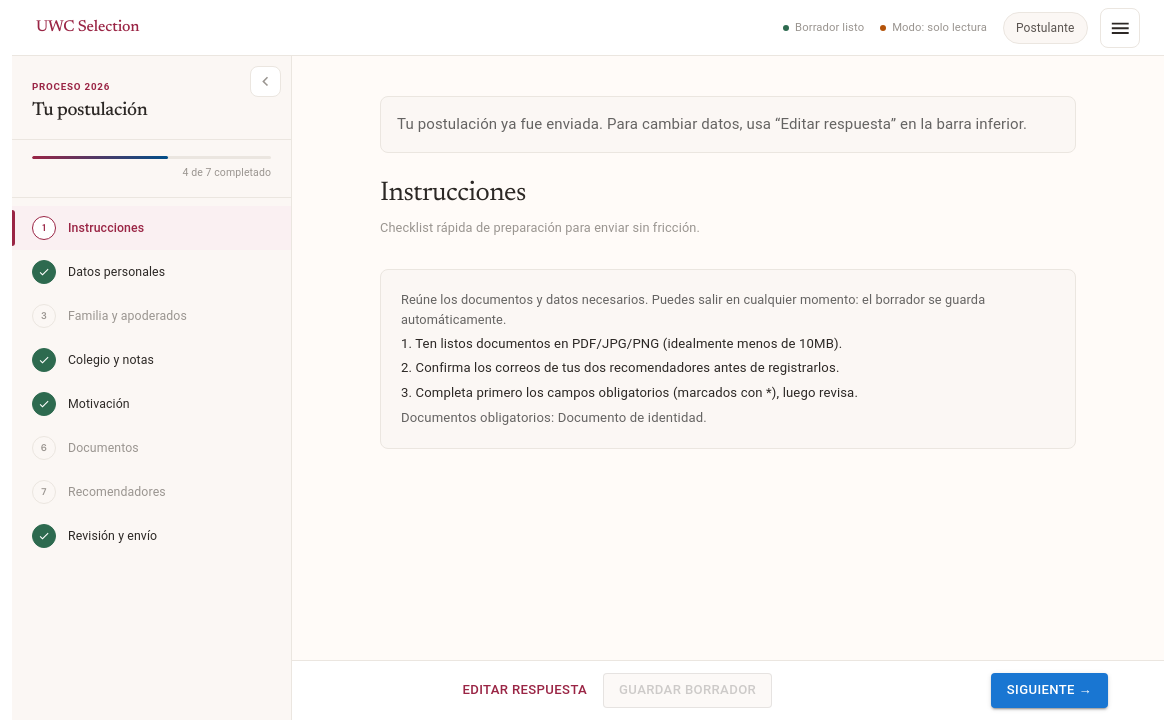
Test case: ApplicantApplicationForm › locks submitted forms until user enables edit mode
Click the button "Datos personales": (152, 272) [12, 250, 291, 294]
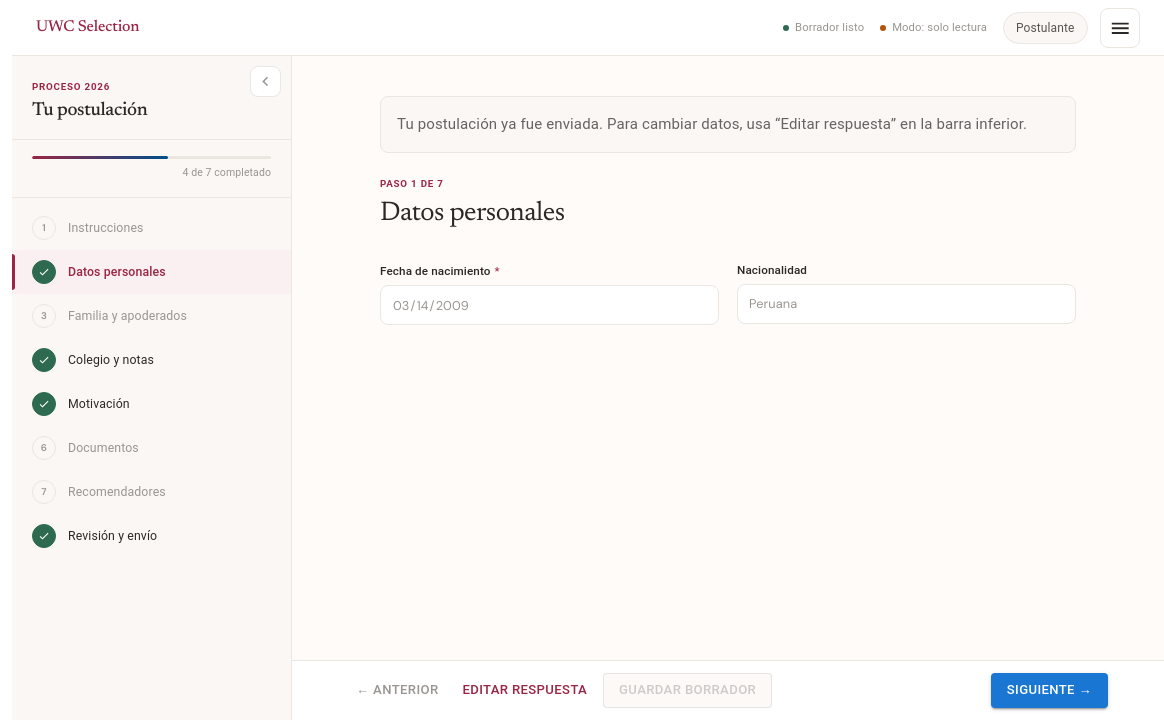
expect the date field named "Fecha de nacimiento" is disabled: met, box [380, 287, 719, 324]
Click the button "Editar respuesta": (525, 690) [454, 673, 595, 708]
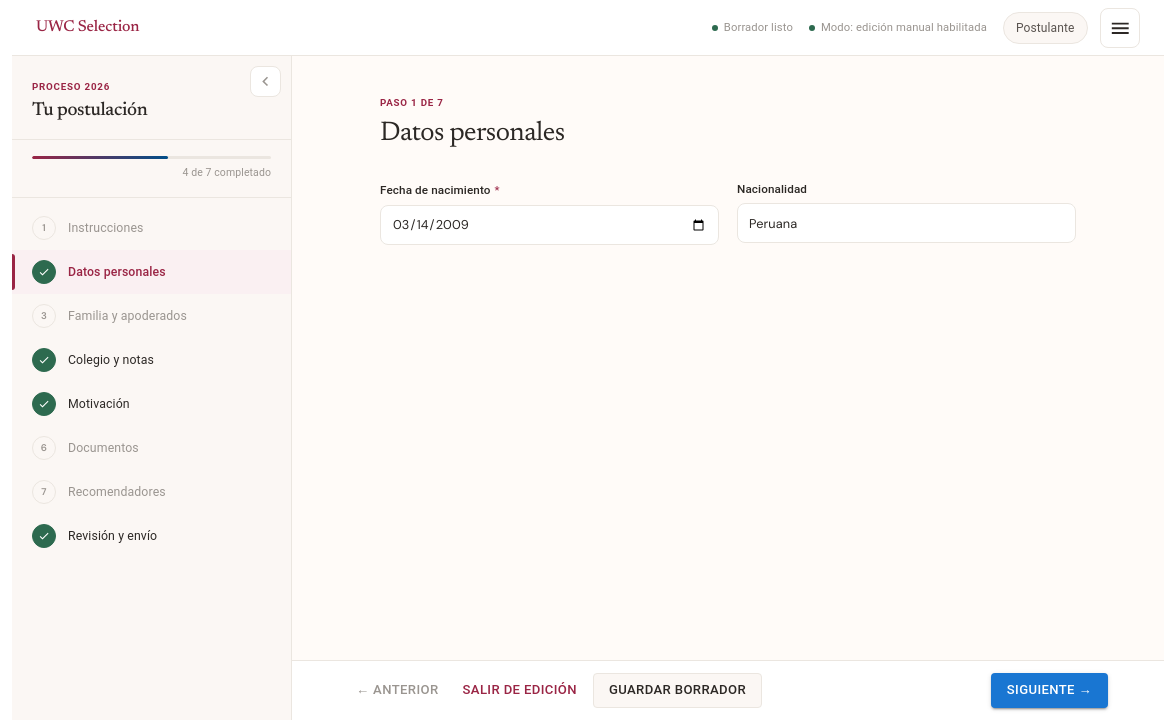
expect the text "Modo: edición manual habilitada" is shown: met, box [821, 20, 987, 36]
expect the date field named "Fecha de nacimiento" is enabled: met, box [380, 207, 719, 243]
